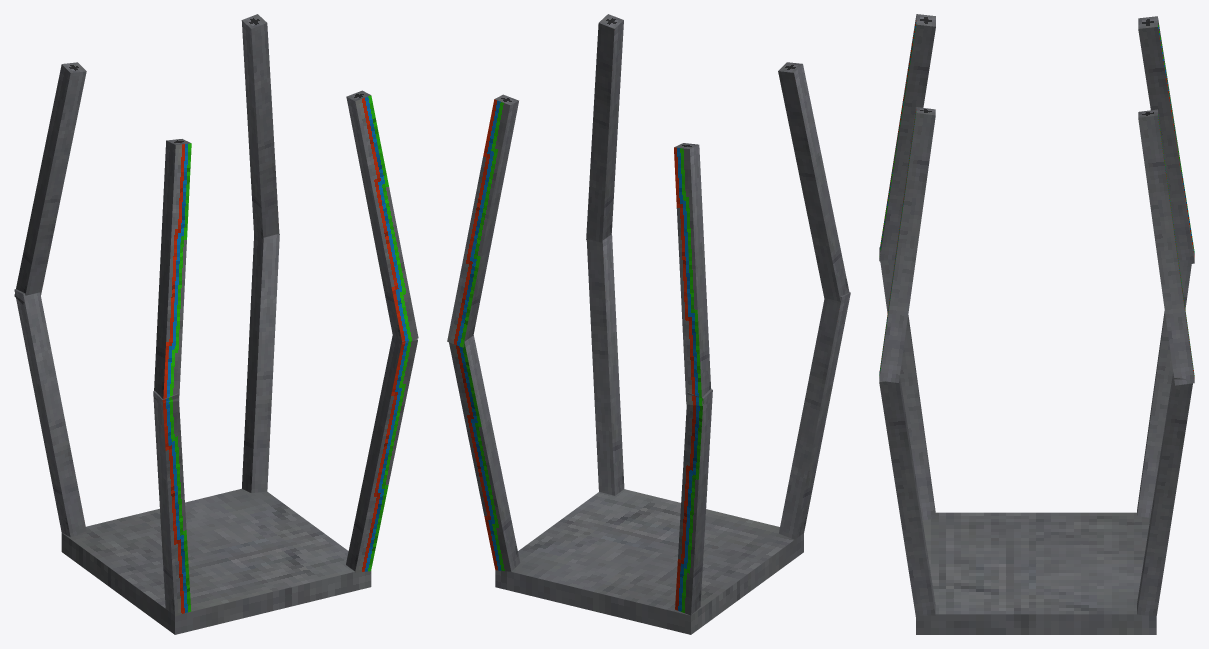
Rendered from teleporting_station.obj.
3 views of the same model, side by side, from view 1: azimuth 30°, elevation 25°; view 2: azimuth 150°, elevation 25°; view 3: azimuth 270°, elevation 25° (orthographic). The views are drawn at different scales.
Visible parts, largest first — view 1: down_Cube, hand1t_Cube.008, hand3_Cube.004, hand2t_Cube.009, hand2_Cube.003, hand4_Cube.005, hand4t_Cube.007, hand3t_Cube.006, hand1_Cube.002; view 2: down_Cube, hand4t_Cube.007, hand2_Cube.003, hand3t_Cube.006, hand1t_Cube.008, hand1_Cube.002, hand3_Cube.004, hand2t_Cube.009, hand4_Cube.005; view 3: down_Cube, hand2t_Cube.009, hand3t_Cube.006, hand2_Cube.003, hand3_Cube.004, hand4t_Cube.007, hand1t_Cube.008, hand1_Cube.002, hand4_Cube.005.
Part boxes in pixels (x1,y1,x2,y2): down_Cube: [61, 488, 371, 634]; hand1t_Cube.008: [153, 139, 191, 402]; hand3_Cube.004: [242, 233, 279, 493]; hand2t_Cube.009: [346, 90, 418, 344]; hand2_Cube.003: [346, 334, 417, 572]; hand4_Cube.005: [14, 289, 86, 537]; hand4t_Cube.007: [14, 62, 86, 305]; hand3t_Cube.006: [241, 14, 279, 238]; hand1_Cube.002: [153, 390, 191, 616]; down_Cube: [495, 489, 803, 634]; hand4t_Cube.007: [674, 143, 711, 405]; hand2_Cube.003: [586, 234, 624, 495]; hand3t_Cube.006: [447, 94, 518, 347]; hand1t_Cube.008: [778, 62, 849, 303]; hand1_Cube.002: [779, 292, 850, 539]; hand3_Cube.004: [449, 335, 520, 571]; hand2t_Cube.009: [586, 14, 623, 242]; hand4_Cube.005: [675, 389, 712, 615]; down_Cube: [916, 512, 1156, 634]; hand2t_Cube.009: [879, 107, 935, 382]; hand3t_Cube.006: [1138, 109, 1194, 385]; hand2_Cube.003: [879, 371, 935, 616]; hand3_Cube.004: [1137, 372, 1192, 615]; hand4t_Cube.007: [1138, 16, 1194, 263]; hand1t_Cube.008: [879, 14, 935, 261]; hand1_Cube.002: [879, 247, 935, 520]; hand4_Cube.005: [1137, 247, 1193, 517].
Size of the model in its own units: 1.11 by 2.03 by 1.11.
